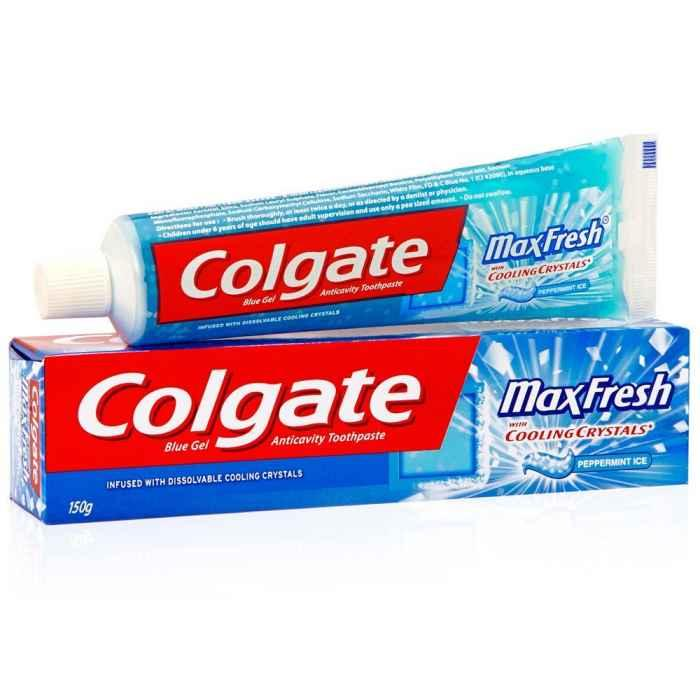toothpaste: (8, 134, 687, 330)
